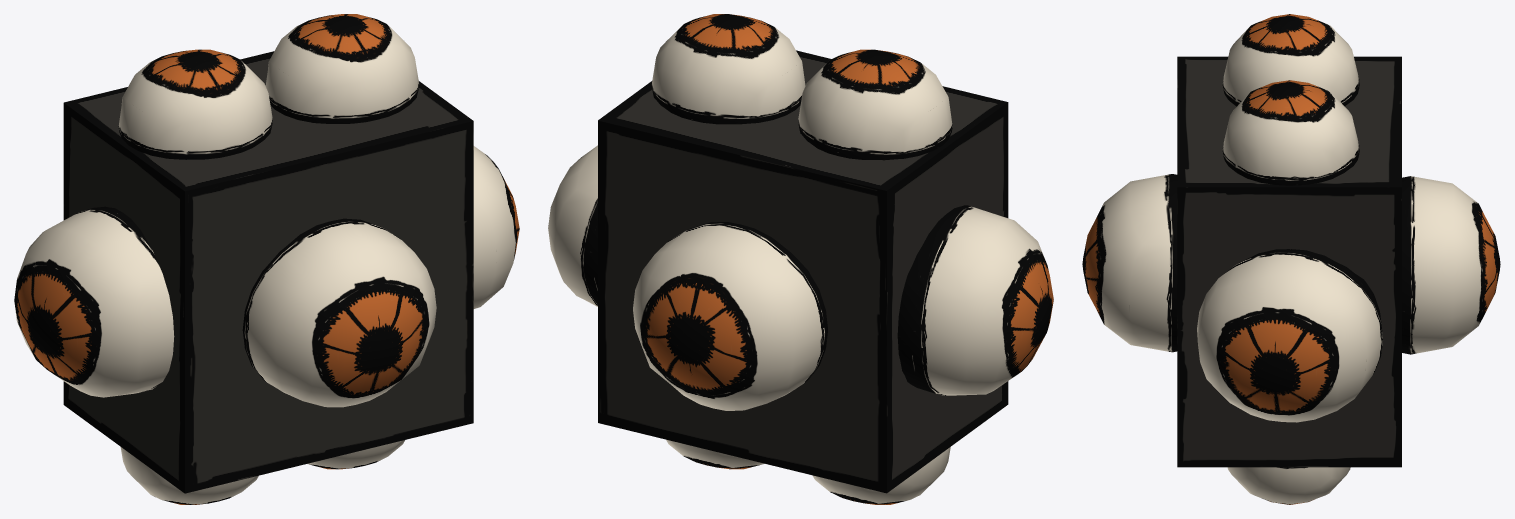
The model's file is spirillum.fbx.
The picture shows the model from 3 angles, left to right: view 1: azimuth 30°, elevation 25°; view 2: azimuth 150°, elevation 25°; view 3: azimuth 270°, elevation 25°; orthographic projection. The views are drawn at different scales.
Parts seen in each view (by area): view 1: Cube, oeil.004, oeil.005, oeil.002, oeil.001, oeil.003, oeil.006, oeil.007; view 2: Cube, oeil.008, oeil.005, oeil.002, oeil.001, oeil.003, oeil.006, oeil.007; view 3: Cube, oeil.003, oeil.008, oeil.004, oeil.001, oeil.002, oeil.007.
Boxes of the visible parts, x1,y1,x2,y2 form: Cube: (63,51,473,493); oeil.004: (242,218,436,407); oeil.005: (14,206,174,397); oeil.002: (118,49,272,159); oeil.001: (265,14,419,123); oeil.003: (473,146,519,308); oeil.006: (120,447,258,504); oeil.007: (307,440,404,469); Cube: (598,50,1008,493); oeil.008: (633,222,827,410); oeil.005: (897,205,1053,395); oeil.002: (798,49,952,160); oeil.001: (651,14,805,124); oeil.003: (548,145,597,306); oeil.006: (812,447,950,504); oeil.007: (666,439,764,469); Cube: (1177,56,1401,467); oeil.003: (1197,249,1383,422); oeil.008: (1402,176,1500,354); oeil.004: (1082,174,1177,352); oeil.001: (1222,80,1359,185); oeil.002: (1222,14,1359,106); oeil.007: (1227,467,1350,504).
Size of the model in its own units: 159 by 142 by 131.
2 materials, 2 textured.
